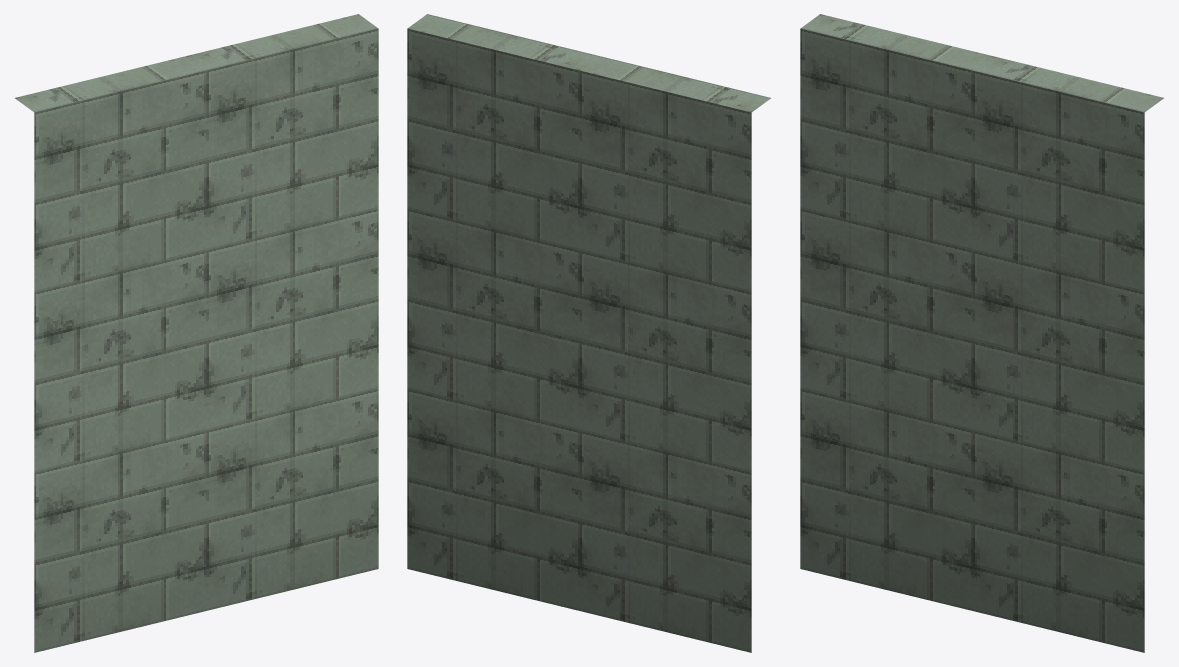
Rendered from wall_cell.glb.
The picture shows the model from 3 angles, left to right: view 1: azimuth 30°, elevation 25°; view 2: azimuth 150°, elevation 25°; view 3: azimuth 330°, elevation 25°; orthographic projection.
Visible parts, largest first — view 1: wall_cell; view 2: wall_cell; view 3: wall_cell.
Part boxes in pixels (x1=…): wall_cell: x1=15, y1=14, x2=378, y2=652; wall_cell: x1=407, y1=14, x2=770, y2=652; wall_cell: x1=800, y1=14, x2=1163, y2=652.
Size of the model in its own units: 2 by 3 by 0.2.
Materials: 1 (1 with a texture image).
